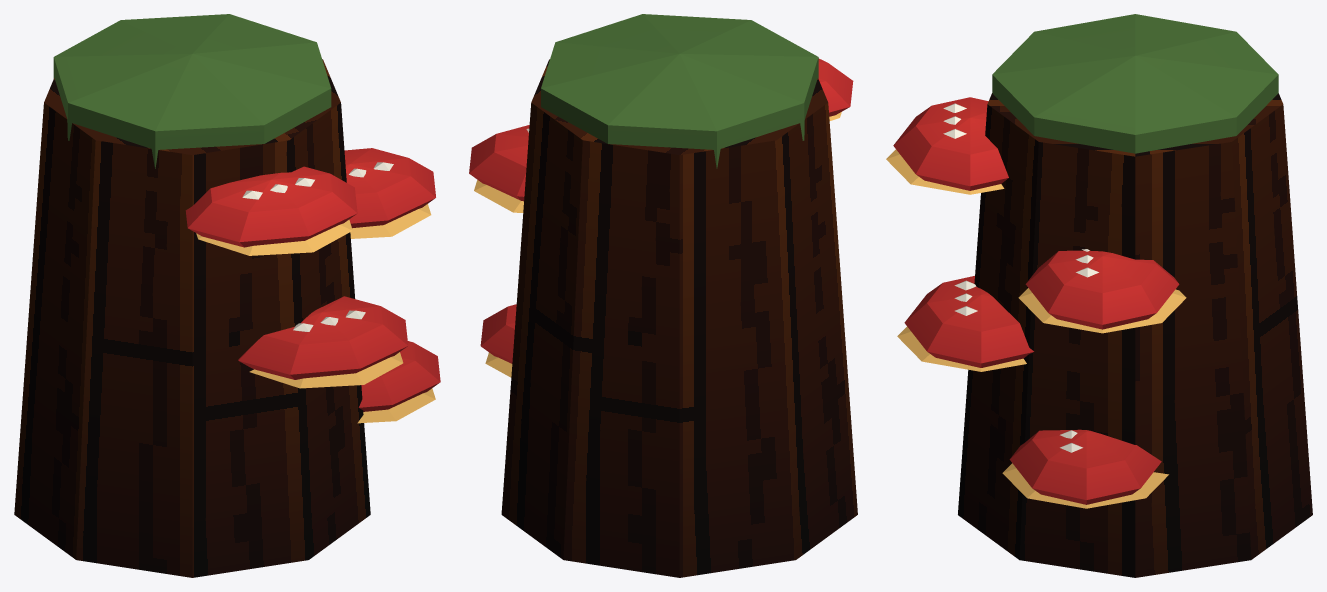
The model's file is toadstool_shelf.glb.
3 renders of one model, left to right at view 1: azimuth 30°, elevation 25°; view 2: azimuth 150°, elevation 25°; view 3: azimuth 270°, elevation 25°, orthographic.
Parts seen in each view (by area): view 1: toadstool_shelf; view 2: toadstool_shelf; view 3: toadstool_shelf.
Part boxes in pixels (bbox=[...]): toadstool_shelf: bbox=[14, 14, 440, 577]; toadstool_shelf: bbox=[469, 14, 857, 577]; toadstool_shelf: bbox=[886, 14, 1312, 577].
Bounding box in the file's own units: 1.42 × 1.64 × 1.42.
Materials: 3 (1 with a texture image).
